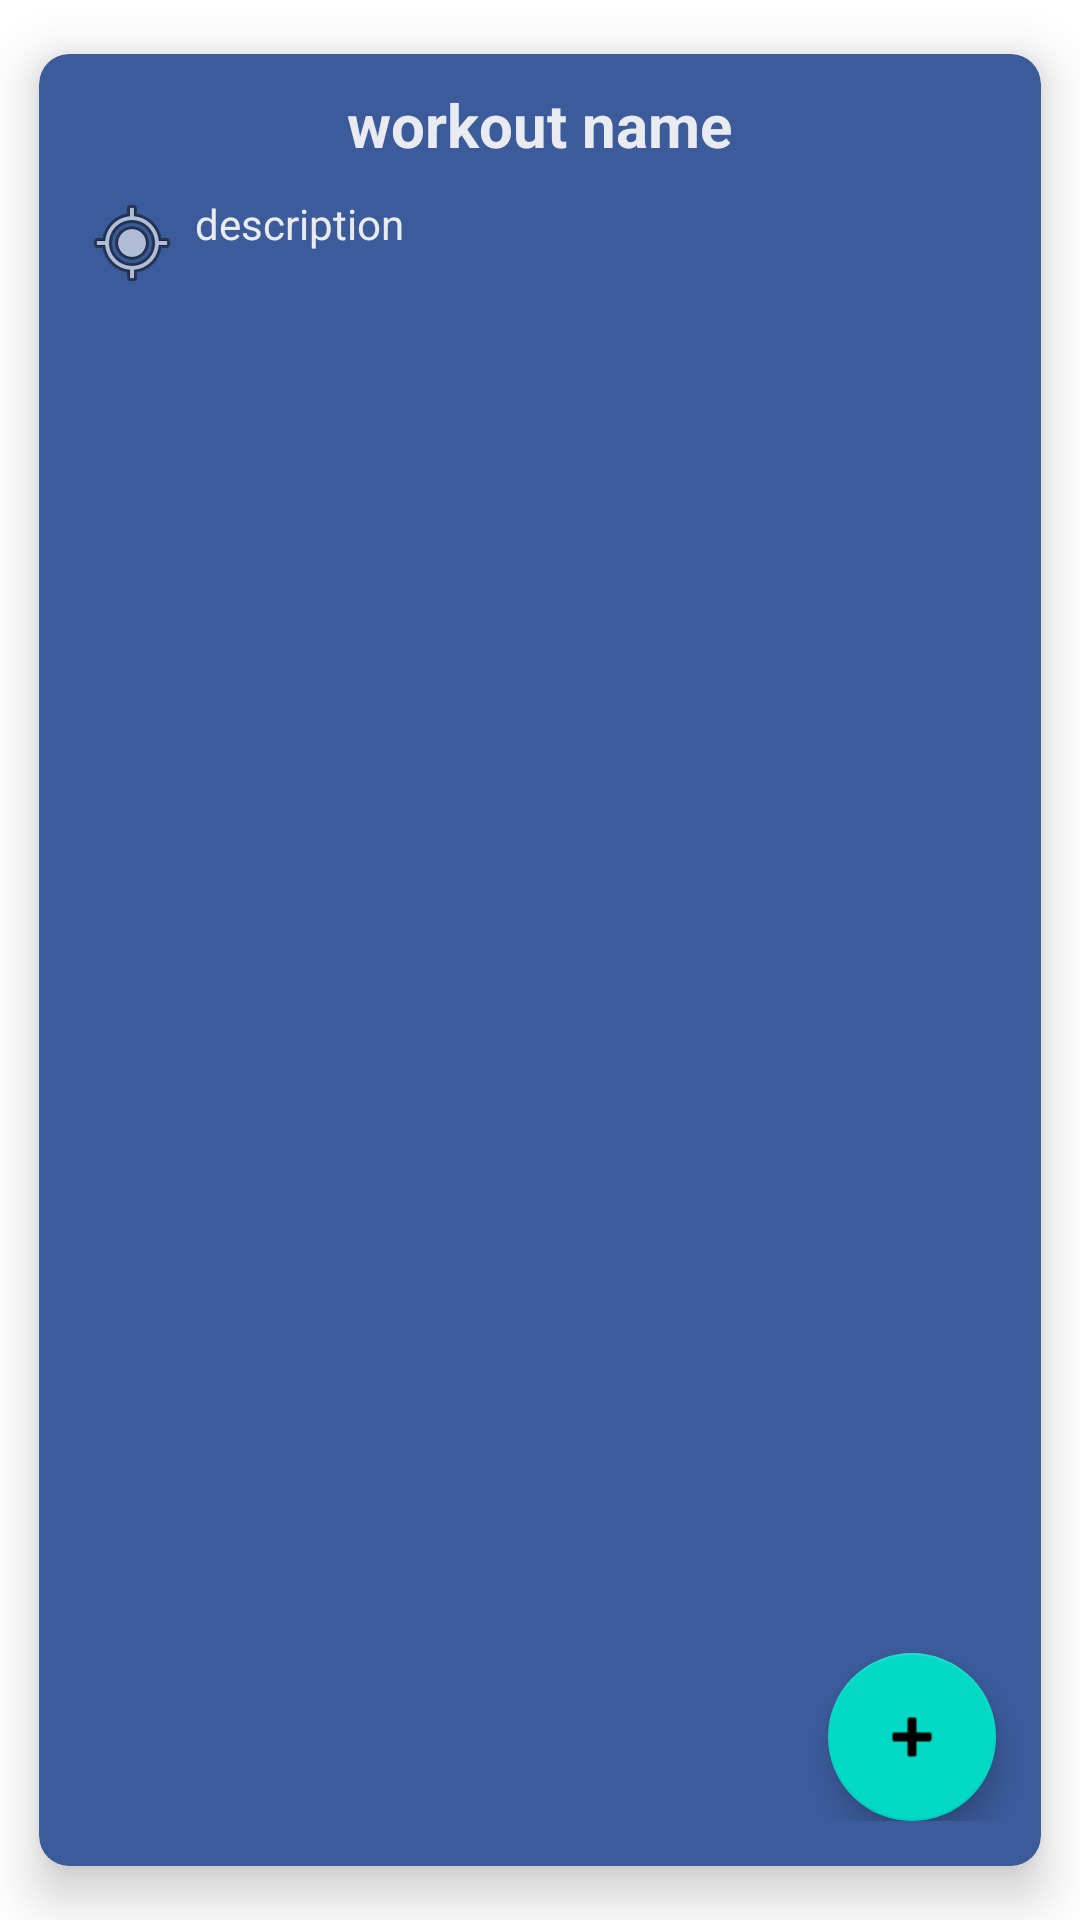

Icon bounding boxes for this 1080 × 1920 phone screenshot, format (x1, y1, x2, y2):
add: (828, 1653, 996, 1821)
